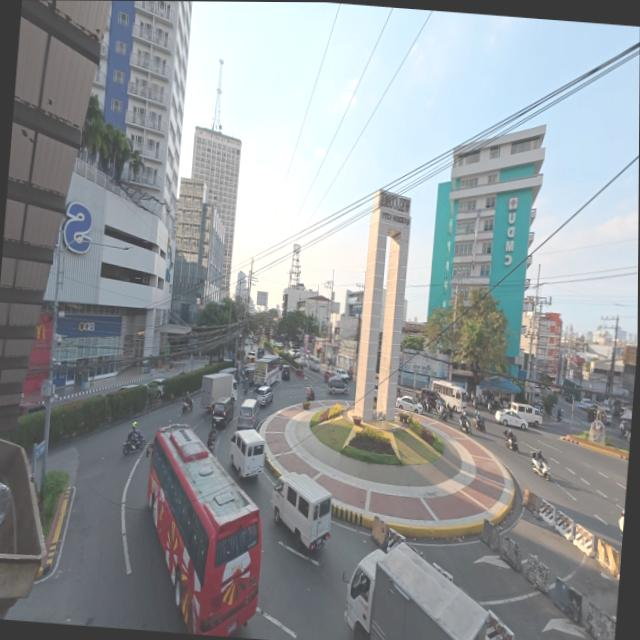bus: (146, 424, 261, 636), (431, 380, 465, 412), (253, 355, 279, 385)
car: (494, 410, 526, 429), (395, 396, 422, 414), (17, 401, 45, 418), (254, 384, 274, 407), (326, 377, 347, 395), (419, 388, 438, 407), (147, 378, 163, 397), (597, 406, 611, 425), (574, 398, 593, 409), (335, 369, 348, 384), (116, 384, 138, 392), (323, 369, 336, 381), (281, 364, 289, 380), (618, 511, 623, 534), (581, 398, 592, 408), (297, 356, 306, 368), (246, 351, 254, 363), (563, 393, 573, 402), (255, 348, 263, 359), (627, 430, 630, 442)
motorcycle: (531, 451, 550, 481), (122, 432, 144, 455), (503, 431, 517, 452), (207, 429, 216, 453), (459, 416, 470, 435), (473, 415, 485, 432), (437, 406, 449, 421), (181, 398, 192, 412), (305, 388, 314, 401), (445, 408, 453, 419), (486, 402, 492, 414), (556, 410, 561, 423), (242, 384, 247, 395)
trucks: (344, 544, 487, 639), (199, 374, 236, 409)
vans: (270, 474, 331, 549), (230, 429, 264, 477), (510, 403, 541, 427), (211, 397, 233, 428), (237, 399, 258, 430), (307, 356, 321, 371)
